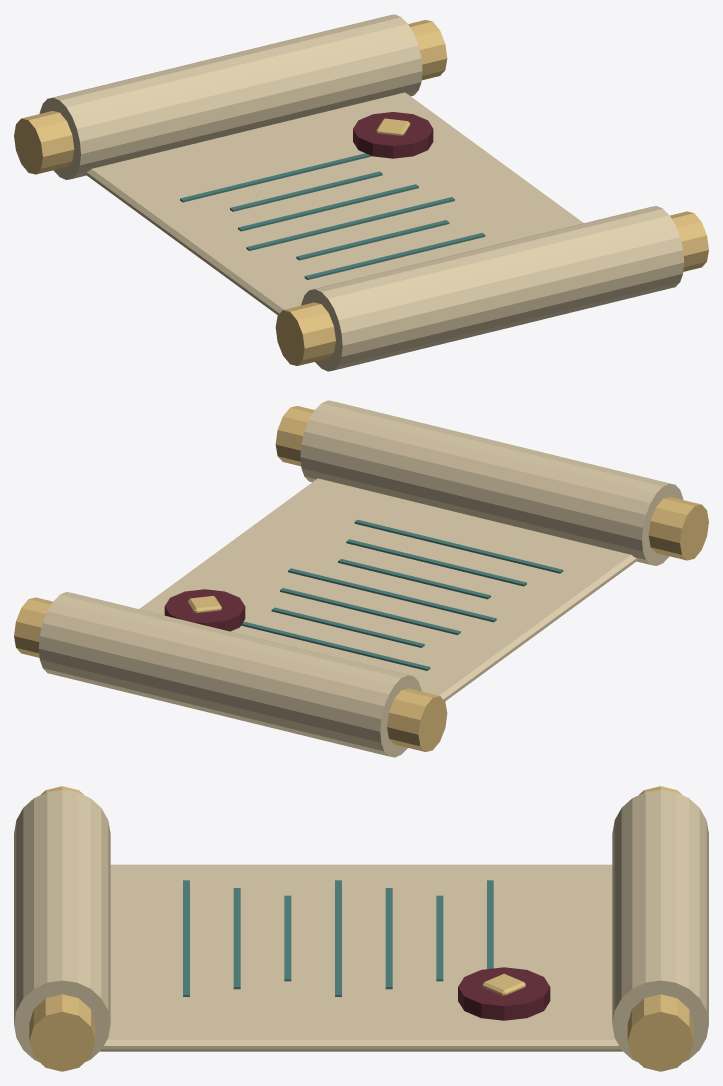
Rendered from wizard_scroll.glb.
3 views of the same model, one above another, from view 1: azimuth 30°, elevation 25°; view 2: azimuth 150°, elevation 25°; view 3: azimuth 270°, elevation 25° (orthographic). The views are drawn at different scales.
Visible parts, largest first — view 1: wizard_scroll_Static; view 2: wizard_scroll_Static; view 3: wizard_scroll_Static.
Boxes of the visible parts, x1,y1,x2,y2 form: wizard_scroll_Static: (14,14,708,371); wizard_scroll_Static: (14,400,708,757); wizard_scroll_Static: (14,786,708,1071).
Bounding box in the file's own units: 1.16 × 0.21 × 1.51.
